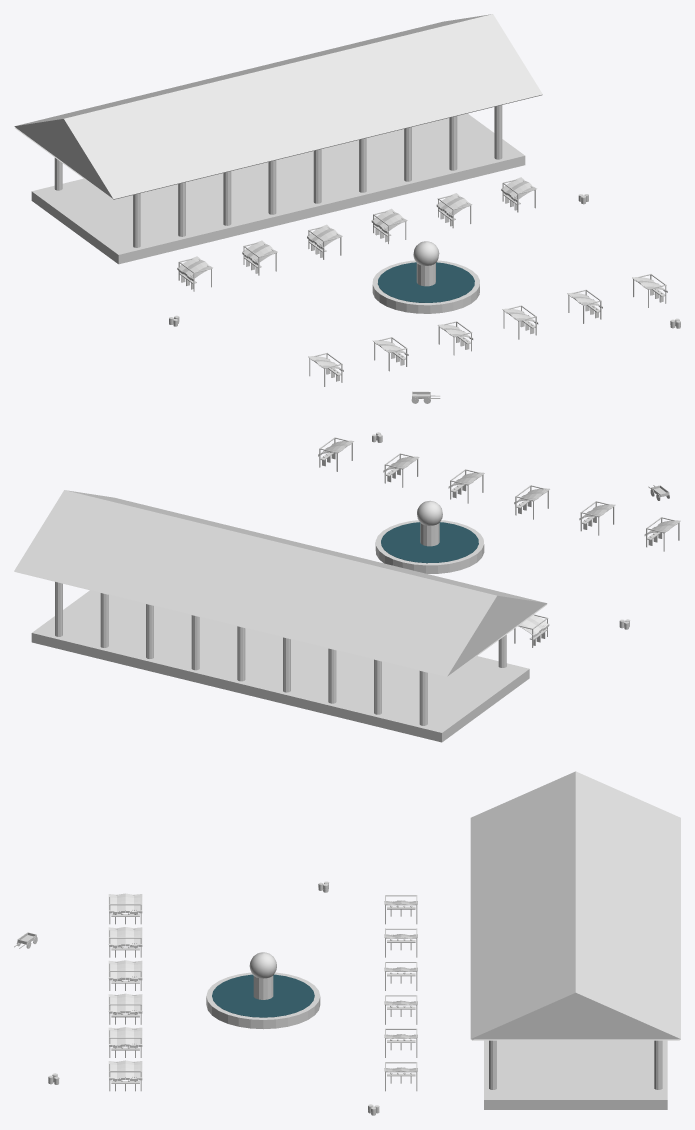
Rendered from ars_market.fbx.
3 views of the same model, one above another, from view 1: azimuth 30°, elevation 25°; view 2: azimuth 150°, elevation 25°; view 3: azimuth 270°, elevation 25° (orthographic). The views are drawn at different scales.
Visible parts, largest first — view 1: ars_market; view 2: ars_market; view 3: ars_market.
Boxes of the visible parts, left/top/right/bottom form: ars_market: left=14, top=14, right=680, bottom=403; ars_market: left=14, top=432, right=680, bottom=742; ars_market: left=14, top=771, right=680, bottom=1115.
Bounding box in the file's own units: 5866 × 1478 × 7259.
